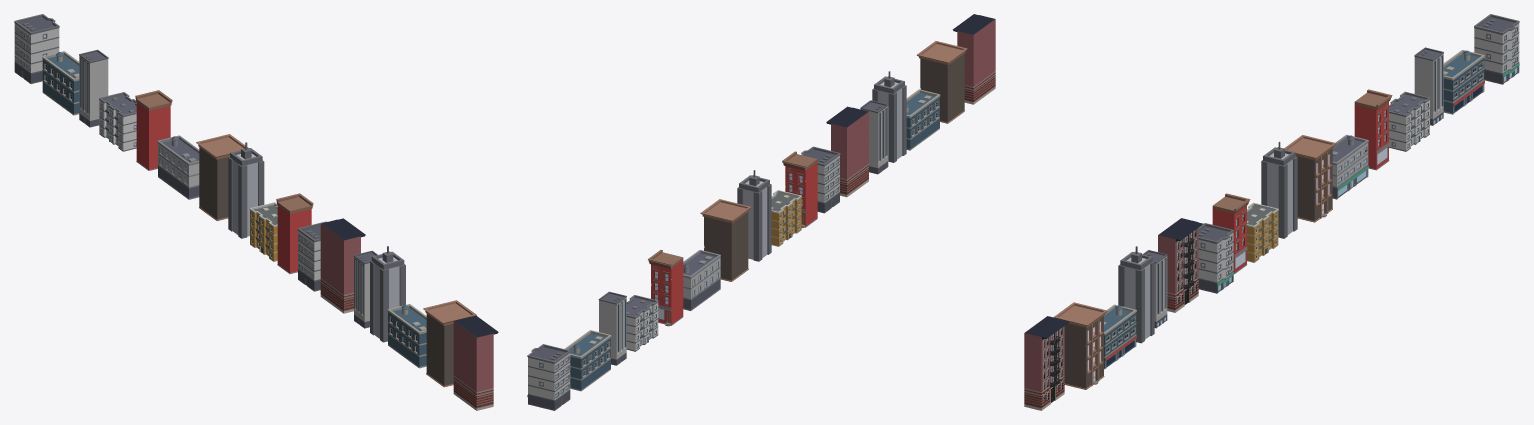
Rendered from SIDEWALK_LEFT_NEW.glb.
3 views of the same model, side by side, from view 1: azimuth 30°, elevation 25°; view 2: azimuth 150°, elevation 25°; view 3: azimuth 330°, elevation 25° (orthographic). The views are drawn at different scales.
Visible parts, largest first — view 1: Apartment_mesh.001, Apartment_mesh, low_buildingD, BrownBuilding, BrownBuilding.001, low_buildingD.001, large_buildingE.001, BuildingCornerRed.001, large_buildingF, BuildingCornerRed, large_buildingF.001, large_buildingF.002 (+5 smaller); view 2: BrownBuilding, BrownBuilding.001, Apartment_mesh.001, Apartment_mesh, large_buildingE.001, low_buildingD, BuildingCornerRed.001, large_buildingF.002, low_buildingD.001, large_buildingF, BuildingCornerRed, large_buildingF.001 (+5 smaller); view 3: Apartment_mesh.001, BrownBuilding.001, BrownBuilding, Apartment_mesh, low_buildingD, large_buildingE.001, low_buildingD.001, large_buildingE, BuildingCornerRed.001, large_buildingF.002, large_buildingA.001, large_buildingF (+5 smaller).
Boxes of the visible parts, <box> form: Apartment_mesh.001: <box>453,315,498,410</box>; Apartment_mesh: <box>320,218,365,313</box>; low_buildingD: <box>228,142,264,238</box>; BrownBuilding: <box>196,134,248,220</box>; BrownBuilding.001: <box>423,300,476,387</box>; low_buildingD.001: <box>370,246,405,342</box>; large_buildingE.001: <box>14,14,59,83</box>; BuildingCornerRed.001: <box>135,90,172,170</box>; large_buildingF: <box>157,135,199,199</box>; BuildingCornerRed: <box>276,193,313,273</box>; large_buildingF.001: <box>387,304,426,368</box>; large_buildingF.002: <box>42,51,79,115</box>; BrownBuilding: <box>700,199,751,281</box>; BrownBuilding.001: <box>917,41,967,123</box>; Apartment_mesh.001: <box>952,14,995,104</box>; Apartment_mesh: <box>826,106,868,197</box>; large_buildingE.001: <box>527,344,570,410</box>; low_buildingD: <box>737,170,771,261</box>; BuildingCornerRed.001: <box>648,250,683,326</box>; large_buildingF.002: <box>564,330,611,391</box>; low_buildingD.001: <box>872,71,906,162</box>; large_buildingF: <box>683,250,720,310</box>; BuildingCornerRed: <box>782,151,817,227</box>; large_buildingF.001: <box>906,89,940,150</box>; Apartment_mesh.001: <box>1024,316,1069,410</box>; BrownBuilding.001: <box>1053,302,1107,389</box>; BrownBuilding: <box>1284,135,1336,222</box>; Apartment_mesh: <box>1158,218,1203,312</box>; low_buildingD: <box>1261,141,1297,238</box>; large_buildingE.001: <box>1474,14,1519,84</box>; low_buildingD.001: <box>1118,246,1154,343</box>; large_buildingE: <box>1198,223,1233,293</box>; BuildingCornerRed.001: <box>1354,89,1392,170</box>; large_buildingF.002: <box>1443,50,1484,114</box>; large_buildingA.001: <box>1388,91,1430,151</box>; large_buildingF: <box>1332,134,1368,199</box>.
Size of the model in its own units: 2.2 by 5.52 by 52.25.
71 materials, 2 textured.
